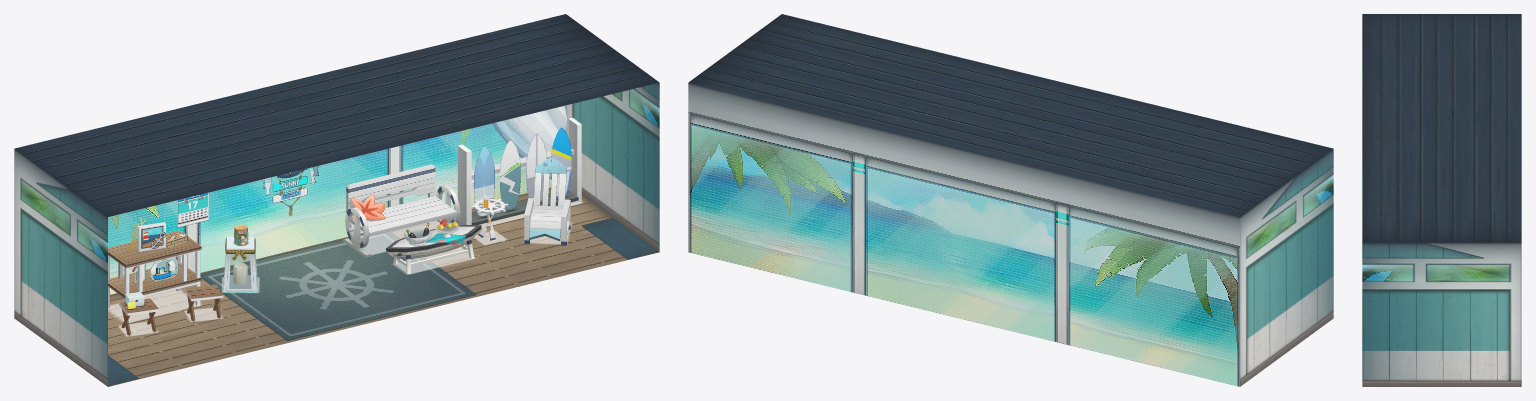
File: beach.glb
3 renders of one model, left to right at view 1: azimuth 30°, elevation 25°; view 2: azimuth 150°, elevation 25°; view 3: azimuth 270°, elevation 25°, orthographic. The views are drawn at different scales.
Visible parts, largest first — view 1: ROOM_room, ROOM_floor, furni_beach_carpet_01, furni_beach_tableChairSets_01, furni_beach_chair_01, furni_beach_surfboard_02, furni_beach_surfboard_01, furni_beach_deckChair_01, furni_beach_coffeeTable_01, furni_beach_curtain_R_01, furni_beach_floorLamp_01, ROOM_LDoor (+10 smaller); view 2: ROOM_room, ROOM_LDoor; view 3: ROOM_room, ROOM_RDoor.
Part boxes in pixels (x1,y1,x2,y2): ROOM_room: [14, 14, 659, 386]; ROOM_floor: [108, 187, 659, 386]; furni_beach_carpet_01: [200, 232, 476, 340]; furni_beach_tableChairSets_01: [108, 222, 223, 336]; furni_beach_chair_01: [344, 164, 460, 257]; furni_beach_surfboard_02: [474, 127, 571, 216]; furni_beach_surfboard_01: [457, 117, 581, 226]; furni_beach_deckChair_01: [524, 157, 570, 245]; furni_beach_coffeeTable_01: [386, 220, 481, 273]; furni_beach_curtain_R_01: [492, 105, 566, 178]; furni_beach_floorLamp_01: [223, 224, 257, 292]; ROOM_LDoor: [75, 286, 94, 376]; ROOM_room: [688, 14, 1333, 386]; ROOM_LDoor: [1300, 251, 1319, 341]; ROOM_room: [1362, 14, 1521, 386]; ROOM_RDoor: [1385, 321, 1418, 386].
Bounding box in the file's own units: 7.48 × 2.2 × 2.2.
Materials: 7 (7 with a texture image).
